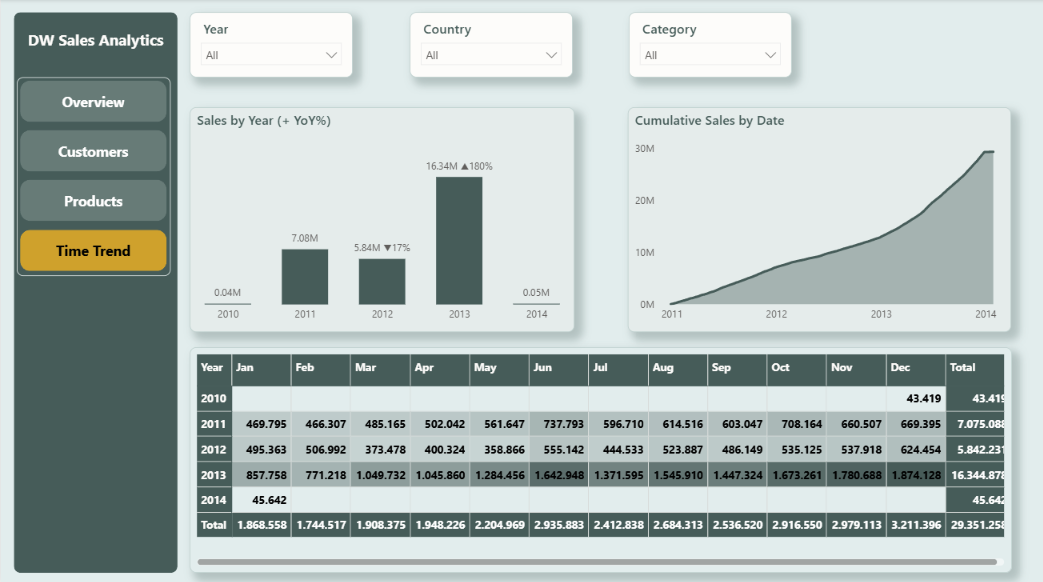

The dashboard page shown, as its layout file describes it:
{"tool":"powerbi","page":{"name":"Time Trend","canvas":[1280,720],"ordinal":3},"visuals":[{"type":"shape","box":[16,16,201,688],"z":0},{"type":"textbox","box":[28.2,31.9,201,688],"z":1000},{"type":"pageNavigator","box":[19.6,95.7,189,244.2],"z":2000},{"type":"slicer","fields":{"Values":["Calendar.Year"]},"box":[232,16,200,80],"z":3000},{"type":"slicer","fields":{"Values":["dim_customers.country"]},"box":[501.8,16,200,80],"z":4000},{"type":"slicer","fields":{"Values":["dim_products.category"]},"box":[770,16,200,80],"z":5000},{"type":"areaChart","fields":{"Y":["_02Measures_Time.Cumulative Sales"],"Category":["Calendar.Date"]},"box":[769.8,133.1,470.7,275.8],"z":6000},{"type":"pivotTable","fields":{"Values":["_01Measures_Overview.Sales"],"Rows":["Calendar.Year"],"Columns":["Calendar.Month"]},"box":[231.9,426.8,1008.6,277.2],"z":7000},{"type":"clusteredColumnChart","title":"Sales by Year (+ YoY%)","fields":{"Category":["Calendar.Year"],"Y":["_01Measures_Overview.Sales"]},"box":[231.9,132.5,472.4,276.1],"z":8000}]}

Visuals, with their boxes in screenshot pixels (x1, y1, x2, y2), scaled from the page's 1280x720 canvas onto the 1043x582 screenshot:
shape: {"left": 13, "top": 13, "right": 177, "bottom": 569}
textbox: {"left": 23, "top": 26, "right": 187, "bottom": 581}
pageNavigator: {"left": 16, "top": 77, "right": 170, "bottom": 275}
slicer - Calendar.Year: {"left": 189, "top": 13, "right": 352, "bottom": 78}
slicer - dim_customers.country: {"left": 409, "top": 13, "right": 572, "bottom": 78}
slicer - dim_products.category: {"left": 627, "top": 13, "right": 790, "bottom": 78}
areaChart - _02Measures_Time.Cumulative Sales x Calendar.Date: {"left": 627, "top": 108, "right": 1011, "bottom": 331}
pivotTable - _01Measures_Overview.Sales x Calendar.Year: {"left": 189, "top": 345, "right": 1011, "bottom": 569}
"Sales by Year (+ YoY%)" clusteredColumnChart: {"left": 189, "top": 107, "right": 574, "bottom": 330}
